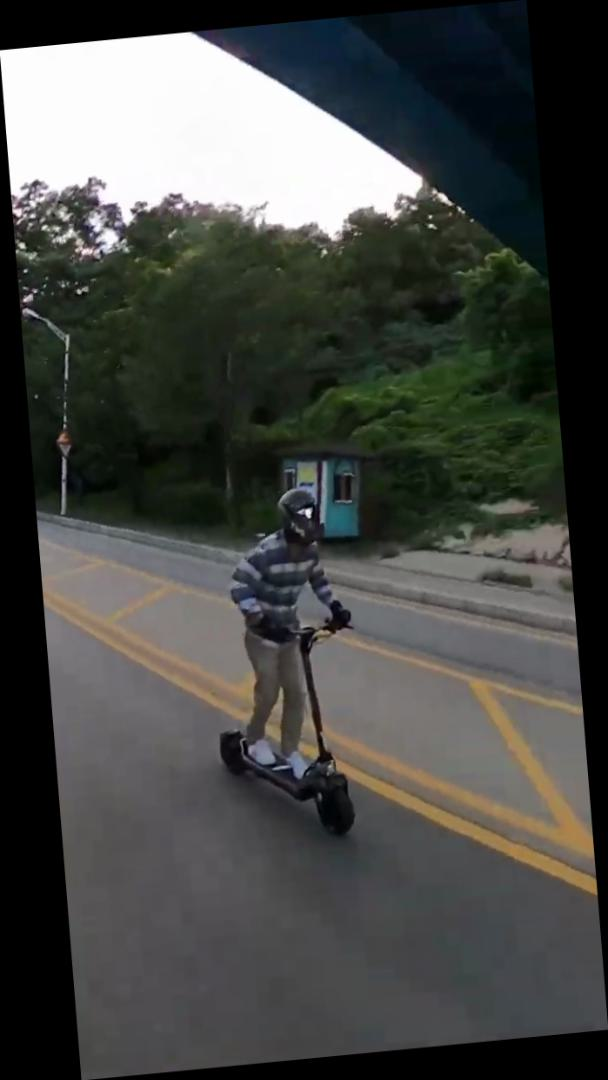helmet: (195, 484, 373, 851)
